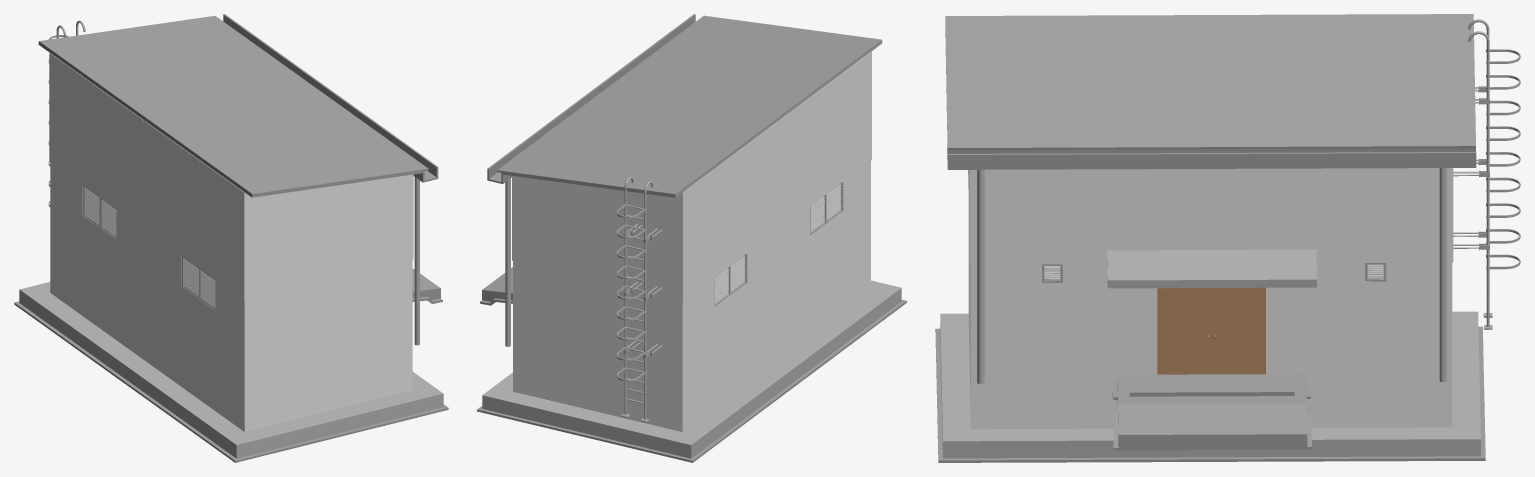
The model's file is 6_oil_IFC4_Reference_View.glb.
3 renders of one model, left to right at view 1: azimuth 30°, elevation 25°; view 2: azimuth 150°, elevation 25°; view 3: azimuth 270°, elevation 25°, orthographic. The views are drawn at different scales.
Visible parts, largest first — view 1: product-337ca9a9-8525-4d58-aff4-0a8023ff4202-body, product-2f18c336-cd09-429e-a0d1-6d2c25554f91-body, product-2f18c336-cd09-429e-a0d1-6d2c25554ebf-body, product-8134622d-a2f9-4d75-bc39-c9b47dfa6386-body, product-8134622d-a2f9-4d75-bc39-c9b47dfa6384-body, product-8134622d-a2f9-4d75-bc39-c9b47dfa6074-body, product-8134622d-a2f9-4d75-bc39-c9b47dfa61ab-body, product-8134622d-a2f9-4d75-bc39-c9b47dfa63e6-body, product-8134622d-a2f9-4d75-bc39-c9b47dfa63e0-body, product-a6ec13e9-0bca-4fa7-85d5-9a0fe0b37b6e-body, product-8134622d-a2f9-4d75-bc39-c9b47dfa0a49-body, product-8134622d-a2f9-4d75-bc39-c9b47dfa0bc4-body (+2 smaller); view 2: product-337ca9a9-8525-4d58-aff4-0a8023ff4202-body, product-2f18c336-cd09-429e-a0d1-6d2c25554f91-body, product-2f18c336-cd09-429e-a0d1-6d2c25554fed-body, product-8134622d-a2f9-4d75-bc39-c9b47dfa6384-body, product-8134622d-a2f9-4d75-bc39-c9b47dfa638a-body, product-8134622d-a2f9-4d75-bc39-c9b47dfa6074-body, product-8134622d-a2f9-4d75-bc39-c9b47dfa63e6-body, product-8134622d-a2f9-4d75-bc39-c9b47dfa60d7-body, product-8134622d-a2f9-4d75-bc39-c9b47dfa63e4-body, product-b49500f3-df42-4ec0-ae13-8d58634a7357-body, product-a6ec13e9-0bca-4fa7-85d5-9a0fe0b37b6e-body, product-8110d90a-e38f-4b0c-9c43-3f556ec452be-body (+4 smaller); view 3: product-337ca9a9-8525-4d58-aff4-0a8023ff4202-body, product-2f18c336-cd09-429e-a0d1-6d2c25554d22-body, product-8134622d-a2f9-4d75-bc39-c9b47dfa6388-body, product-8134622d-a2f9-4d75-bc39-c9b47dfa7c40-body, product-8134622d-a2f9-4d75-bc39-c9b47dfa6358-body, product-8134622d-a2f9-4d75-bc39-c9b47dfa4534-body, product-8134622d-a2f9-4d75-bc39-c9b47dfa2226-body, product-0299f4af-7121-436d-8fec-86d50e477ff1-body, product-8134622d-a2f9-4d75-bc39-c9b47dfa63ea-body, product-8134622d-a2f9-4d75-bc39-c9b47dfa63e0-body, product-8134622d-a2f9-4d75-bc39-c9b47dfa63e4-body, product-a6ec13e9-0bca-4fa7-85d5-9a0fe0b37b6e-body (+7 smaller).
Part boxes in pixels (bbox=[...]): product-337ca9a9-8525-4d58-aff4-0a8023ff4202-body: bbox=[38, 14, 438, 197]; product-2f18c336-cd09-429e-a0d1-6d2c25554f91-body: bbox=[49, 52, 244, 301]; product-2f18c336-cd09-429e-a0d1-6d2c25554ebf-body: bbox=[245, 174, 412, 300]; product-8134622d-a2f9-4d75-bc39-c9b47dfa6386-body: bbox=[241, 259, 412, 389]; product-8134622d-a2f9-4d75-bc39-c9b47dfa6384-body: bbox=[50, 162, 240, 386]; product-8134622d-a2f9-4d75-bc39-c9b47dfa6074-body: bbox=[50, 250, 240, 428]; product-8134622d-a2f9-4d75-bc39-c9b47dfa61ab-body: bbox=[241, 347, 412, 431]; product-8134622d-a2f9-4d75-bc39-c9b47dfa63e6-body: bbox=[19, 282, 228, 439]; product-8134622d-a2f9-4d75-bc39-c9b47dfa63e0-body: bbox=[210, 374, 443, 458]; product-a6ec13e9-0bca-4fa7-85d5-9a0fe0b37b6e-body: bbox=[14, 301, 448, 462]; product-8134622d-a2f9-4d75-bc39-c9b47dfa0a49-body: bbox=[182, 257, 215, 310]; product-8134622d-a2f9-4d75-bc39-c9b47dfa0bc4-body: bbox=[83, 186, 116, 239]; product-337ca9a9-8525-4d58-aff4-0a8023ff4202-body: bbox=[487, 14, 882, 197]; product-2f18c336-cd09-429e-a0d1-6d2c25554f91-body: bbox=[682, 51, 871, 301]; product-2f18c336-cd09-429e-a0d1-6d2c25554fed-body: bbox=[512, 176, 682, 300]; product-8134622d-a2f9-4d75-bc39-c9b47dfa6384-body: bbox=[676, 164, 867, 389]; product-8134622d-a2f9-4d75-bc39-c9b47dfa638a-body: bbox=[513, 261, 676, 387]; product-8134622d-a2f9-4d75-bc39-c9b47dfa6074-body: bbox=[676, 251, 867, 431]; product-8134622d-a2f9-4d75-bc39-c9b47dfa63e6-body: bbox=[645, 302, 875, 458]; product-8134622d-a2f9-4d75-bc39-c9b47dfa60d7-body: bbox=[513, 349, 676, 430]; product-8134622d-a2f9-4d75-bc39-c9b47dfa63e4-body: bbox=[482, 376, 655, 447]; product-b49500f3-df42-4ec0-ae13-8d58634a7357-body: bbox=[616, 177, 662, 422]; product-a6ec13e9-0bca-4fa7-85d5-9a0fe0b37b6e-body: bbox=[477, 299, 906, 462]; product-8110d90a-e38f-4b0c-9c43-3f556ec452be-body: bbox=[505, 178, 510, 346]; product-337ca9a9-8525-4d58-aff4-0a8023ff4202-body: bbox=[945, 14, 1476, 169]; product-2f18c336-cd09-429e-a0d1-6d2c25554d22-body: bbox=[970, 168, 1453, 264]; product-8134622d-a2f9-4d75-bc39-c9b47dfa6388-body: bbox=[1266, 262, 1439, 374]; product-8134622d-a2f9-4d75-bc39-c9b47dfa7c40-body: bbox=[984, 264, 1157, 375]; product-8134622d-a2f9-4d75-bc39-c9b47dfa6358-body: bbox=[980, 373, 1442, 429]; product-8134622d-a2f9-4d75-bc39-c9b47dfa4534-body: bbox=[1117, 374, 1307, 447]; product-8134622d-a2f9-4d75-bc39-c9b47dfa2226-body: bbox=[1157, 287, 1265, 375]; product-0299f4af-7121-436d-8fec-86d50e477ff1-body: bbox=[1107, 249, 1316, 288]; product-8134622d-a2f9-4d75-bc39-c9b47dfa63ea-body: bbox=[1009, 427, 1414, 457]; product-8134622d-a2f9-4d75-bc39-c9b47dfa63e0-body: bbox=[940, 313, 1008, 458]; product-8134622d-a2f9-4d75-bc39-c9b47dfa63e4-body: bbox=[1414, 339, 1480, 456]; product-a6ec13e9-0bca-4fa7-85d5-9a0fe0b37b6e-body: bbox=[935, 326, 1485, 462].
Bounding box in the file's own units: 8.67 × 7.9 × 12.4.
